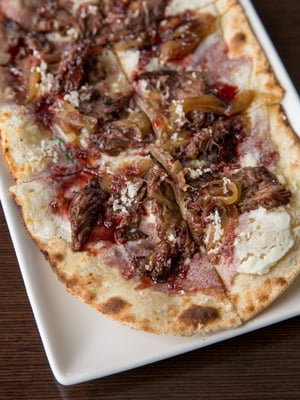sandwich: (2, 0, 300, 341)
